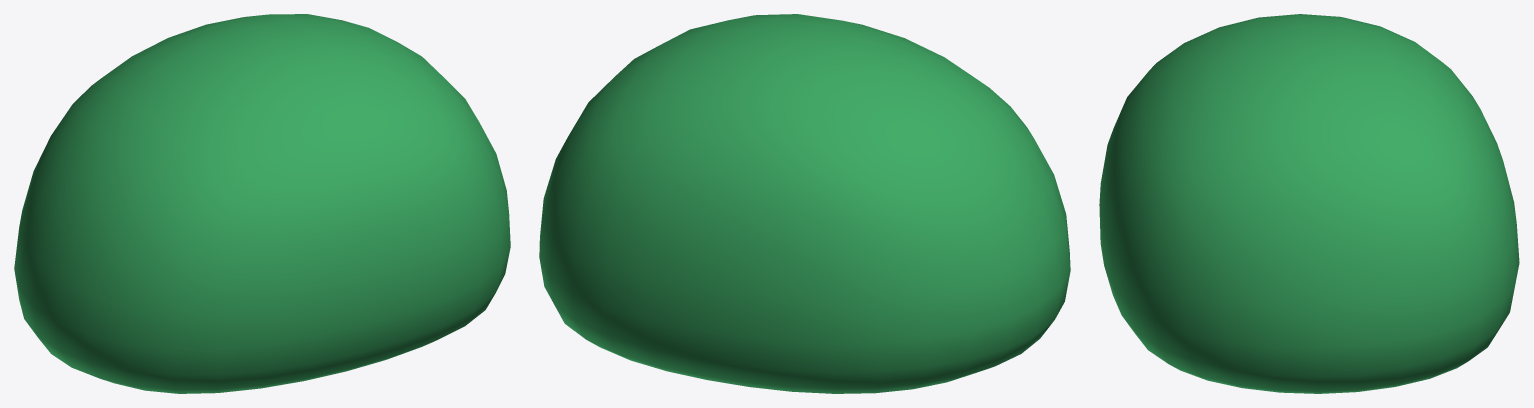
File: Bush_D_01.fbx
The picture shows the model from 3 angles, left to right: view 1: azimuth 30°, elevation 25°; view 2: azimuth 150°, elevation 25°; view 3: azimuth 270°, elevation 25°; orthographic projection. The views are drawn at different scales.
Parts seen in each view (by area): view 1: Bush_D_01_LOD0; view 2: Bush_D_01_LOD0; view 3: Bush_D_01_LOD0.
Boxes of the visible parts, x1,y1,x2,y2 form: Bush_D_01_LOD0: (14, 14, 510, 393); Bush_D_01_LOD0: (539, 14, 1070, 393); Bush_D_01_LOD0: (1099, 14, 1519, 393).
Size of what is drawn, in the model's own units: 472 by 283 by 386.
